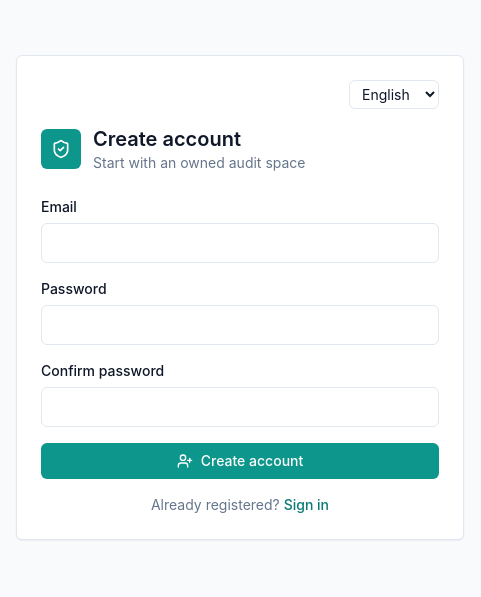
Test: register page › blocks missing required fields
The width and height of the screenshot is (481, 597).
Click the button "Create account" at (240, 460), box [41,442,439,478]
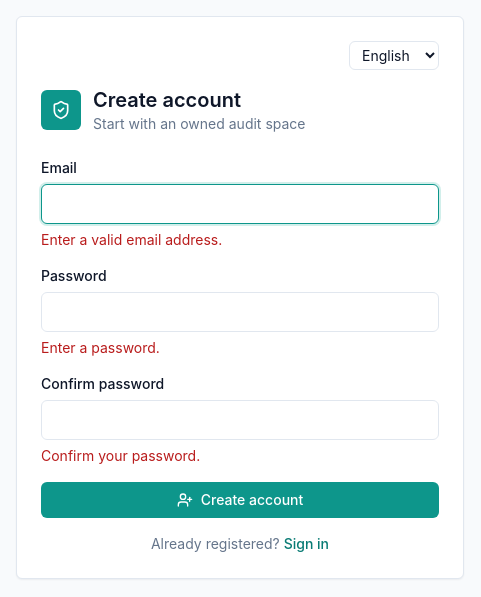
Now the text "Enter a valid email address." is shown, box [41,230,222,248]
Now the text "Enter a password." is shown, box [41,338,160,356]
